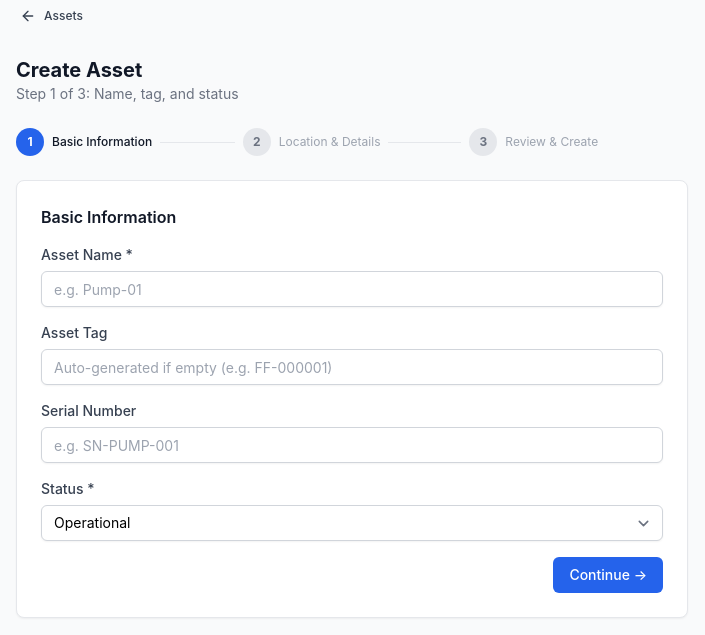
AssetCreatePage › advances to step 2 with valid data
Type "My Pump" into the field labelled "Asset Name *" at coordinates (352, 289), box [41,271,663,307]
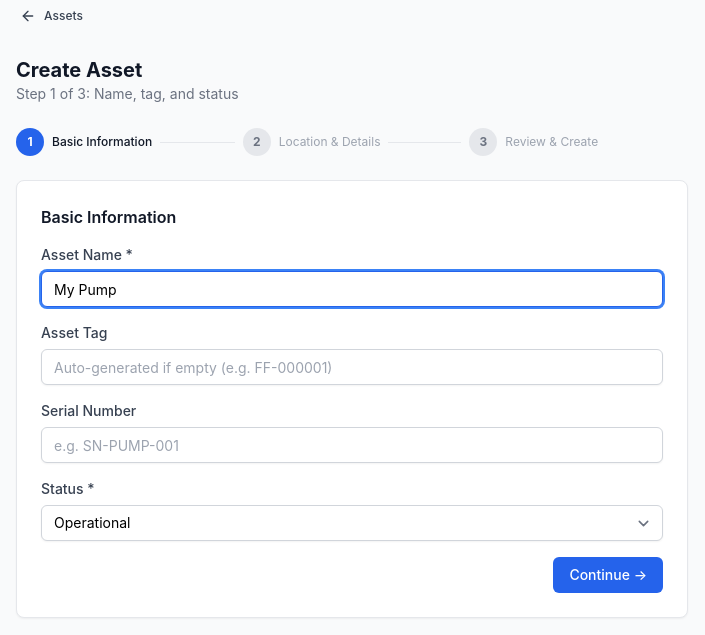
Click the button "Continue →" at coordinates (608, 575), box [553,557,663,593]
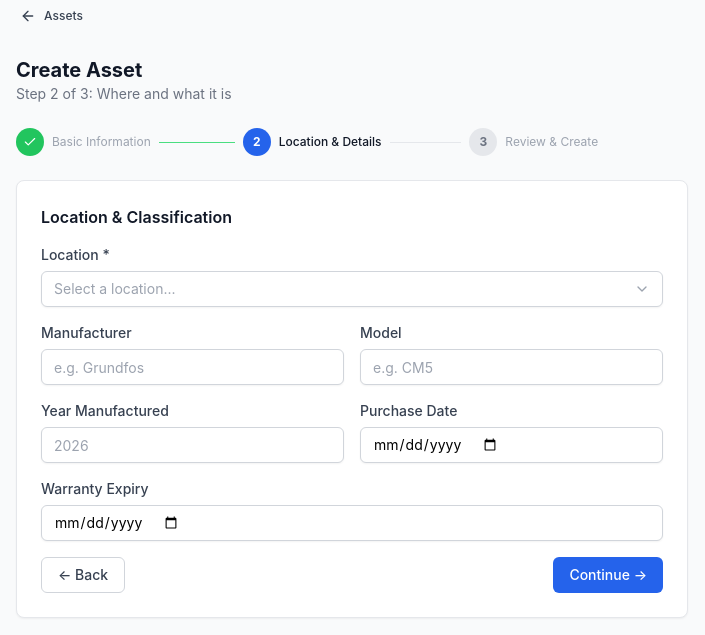
Result: the heading "Location & Classification" is shown at [41,207,232,227]
